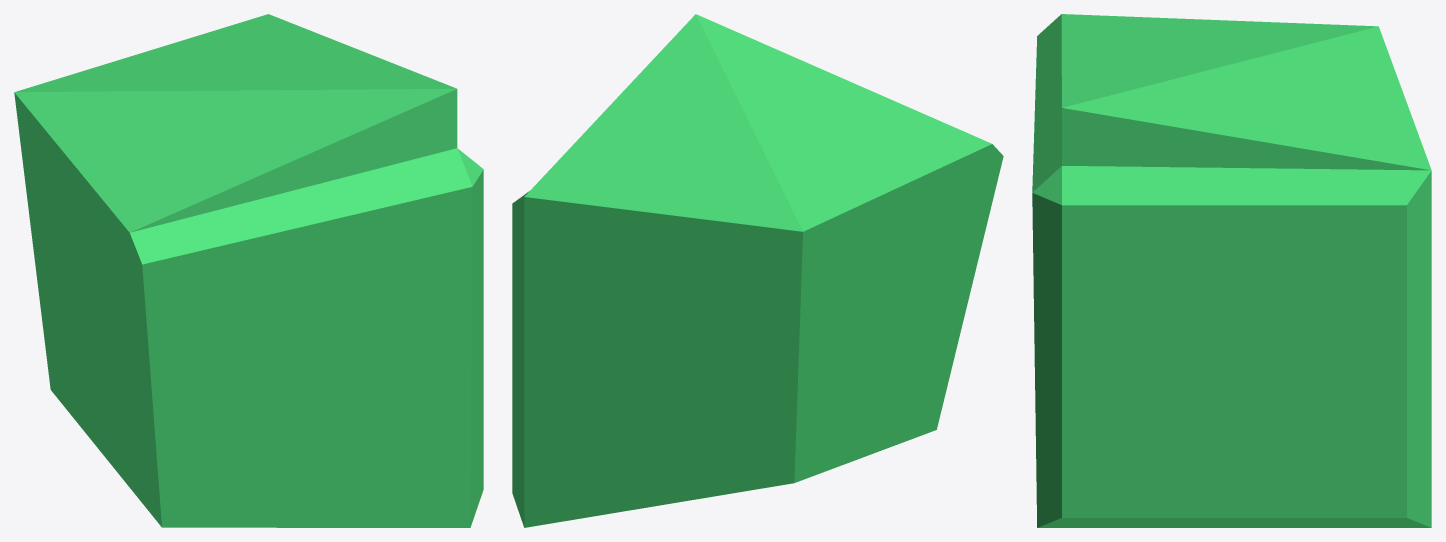
Rendered from glut.fbx.
3 views of the same model, side by side, from view 1: azimuth 30°, elevation 25°; view 2: azimuth 150°, elevation 25°; view 3: azimuth 270°, elevation 25° (orthographic). The views are drawn at different scales.
Visible parts, largest first — view 1: Cube; view 2: Cube; view 3: Cube.
Part boxes in pixels (x1=…): Cube: x1=14, y1=14, x2=483, y2=527; Cube: x1=512, y1=14, x2=1003, y2=527; Cube: x1=1032, y1=14, x2=1431, y2=527.
Bounding box in the file's own units: 277 × 321 × 277.
